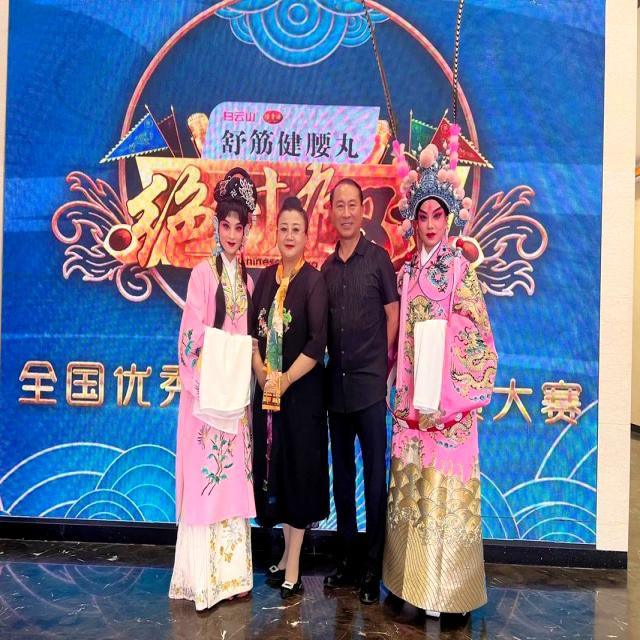Reeves-s Pheasant: (360, 0, 397, 139), (453, 0, 464, 46), (451, 54, 458, 120)
